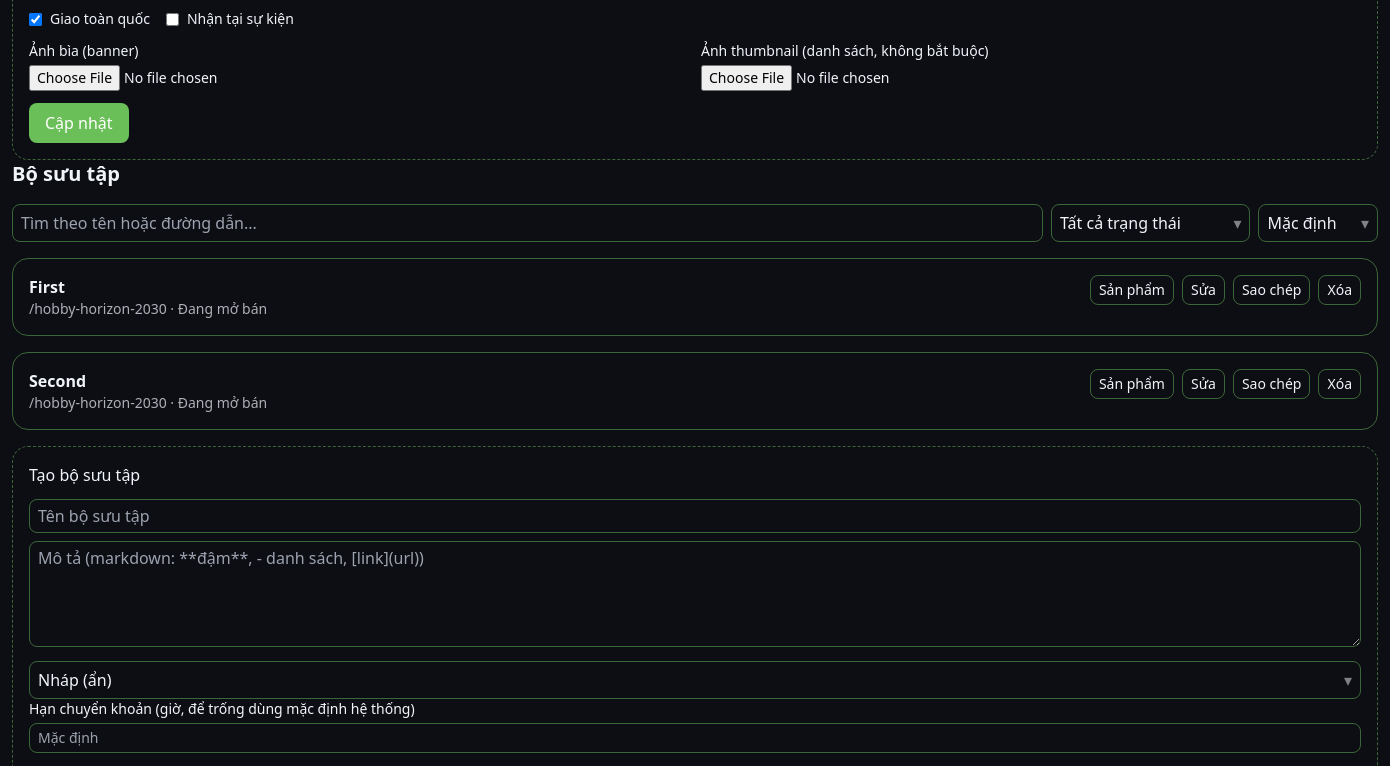
Test case: AdminCollections - edit › populates the shared form with the clicked collection's own fields, not the previous one
The width and height of the screenshot is (1390, 766).
(page scrolled)
Click the 2nd button "Sửa" at (1204, 384), box [1182,369,1225,399]
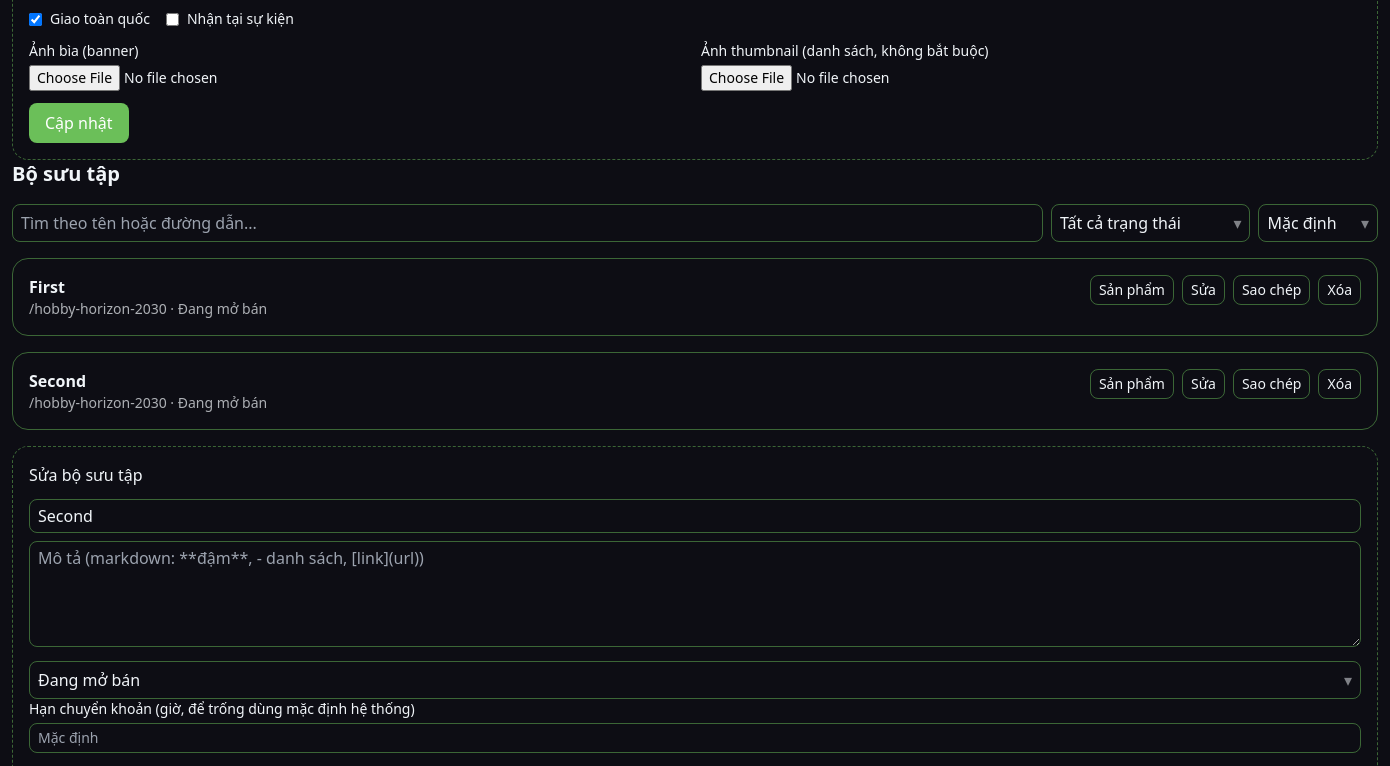
expect the field with placeholder "Tên bộ sưu tập" holds "Second": met, box [29,499,1361,533]
